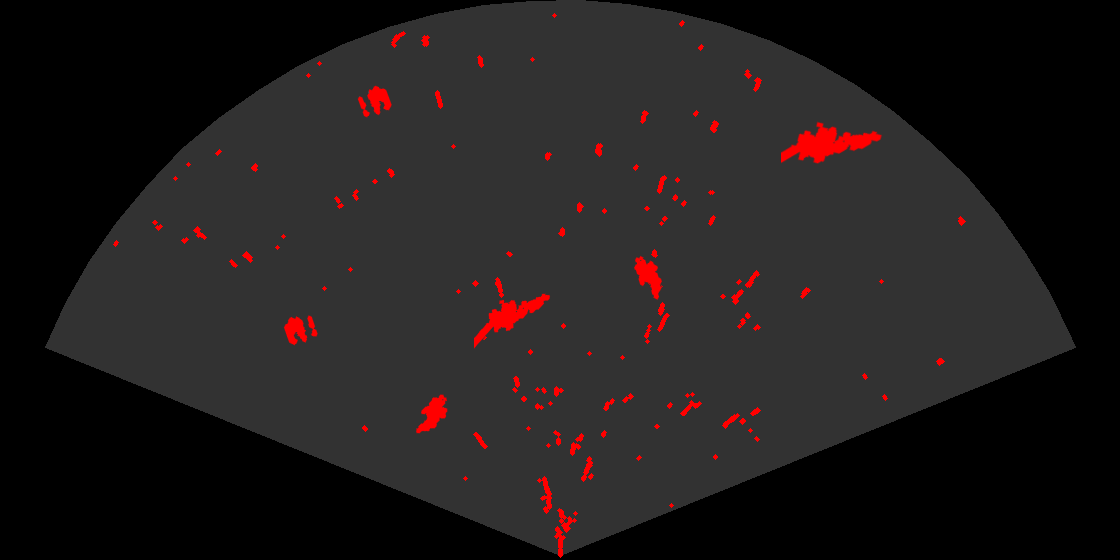AUV: (414, 393, 449, 435), (633, 254, 663, 301)
ball: (356, 84, 393, 119), (282, 314, 319, 347)
frogman: (781, 120, 884, 165), (474, 292, 552, 349)
